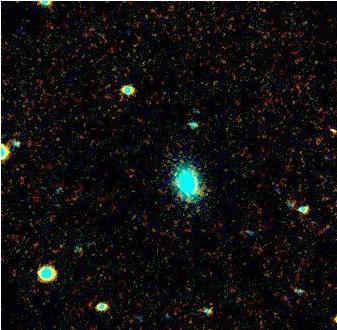star: (315, 114, 337, 144)
